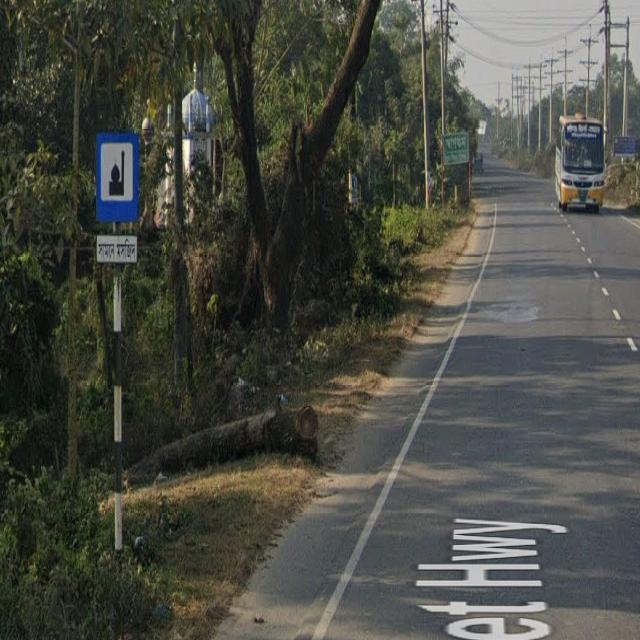Mosque in front: (94, 131, 148, 271)
